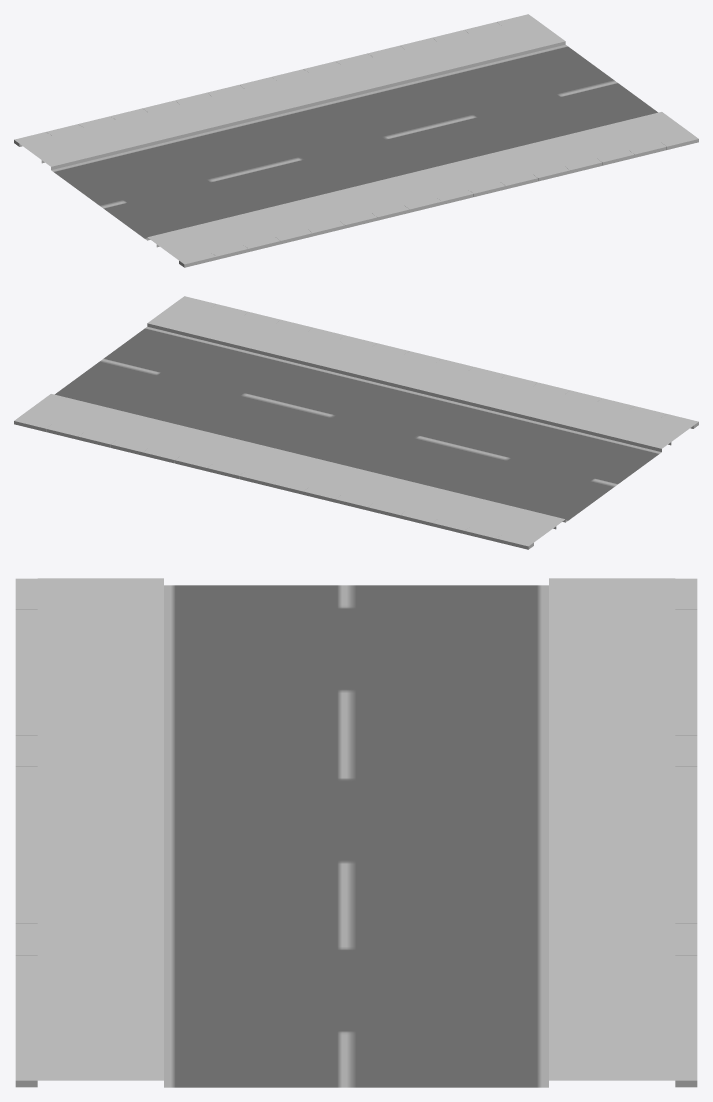
Rendered from Bridge.2.Road.A.fbx.
3 views of the same model, one above another, from view 1: azimuth 30°, elevation 25°; view 2: azimuth 150°, elevation 25°; view 3: azimuth 270°, elevation 25° (orthographic). The views are drawn at different scales.
Visible parts, largest first — view 1: Bridge.2.Road.A; view 2: Bridge.2.Road.A; view 3: Bridge.2.Road.A.
Part boxes in pixels (x1,y1,x2,y2): Bridge.2.Road.A: [14, 14, 698, 267]; Bridge.2.Road.A: [14, 296, 698, 549]; Bridge.2.Road.A: [15, 578, 697, 1087].
Bounding box in the file's own units: 1600 × 10 × 918.
